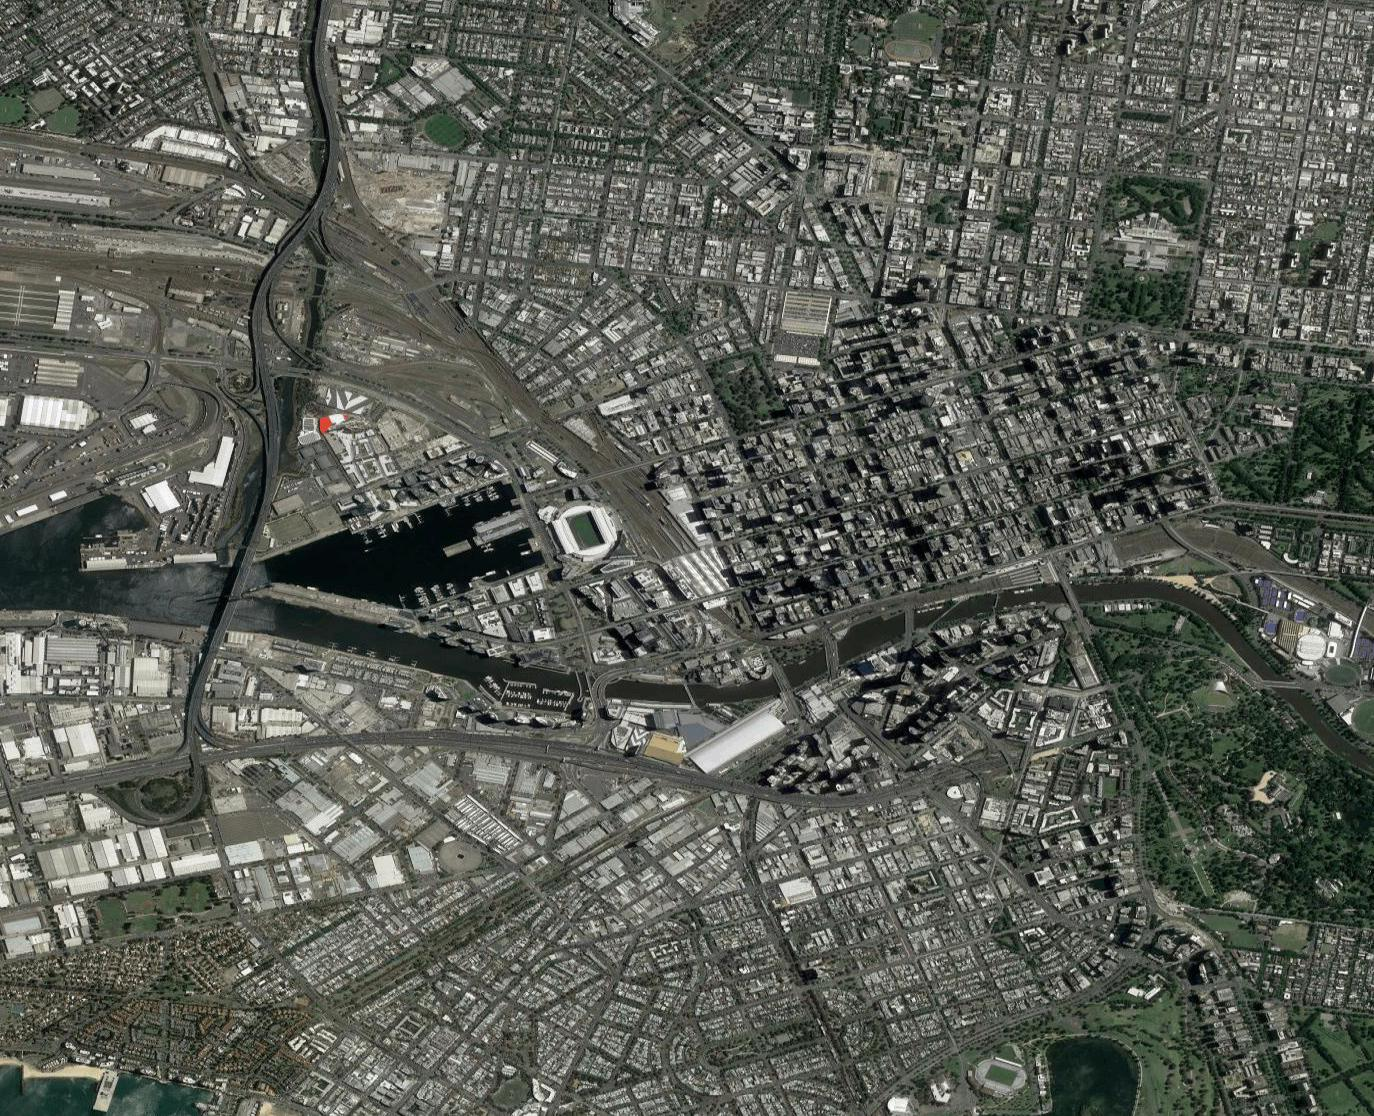bridge: (219, 561, 255, 630), (589, 457, 642, 484), (1262, 674, 1313, 692), (582, 674, 614, 700), (1058, 578, 1081, 608), (770, 666, 793, 695), (821, 640, 844, 668), (898, 609, 921, 638)
motorway: (505, 739, 668, 780), (667, 771, 844, 806), (302, 1, 346, 137), (293, 140, 349, 240), (846, 768, 974, 811), (112, 741, 225, 787), (1, 762, 109, 809), (247, 235, 291, 339), (224, 729, 357, 761), (181, 635, 219, 740), (247, 449, 280, 560), (249, 337, 282, 448), (364, 728, 505, 753)
train_station: (650, 538, 744, 622)
